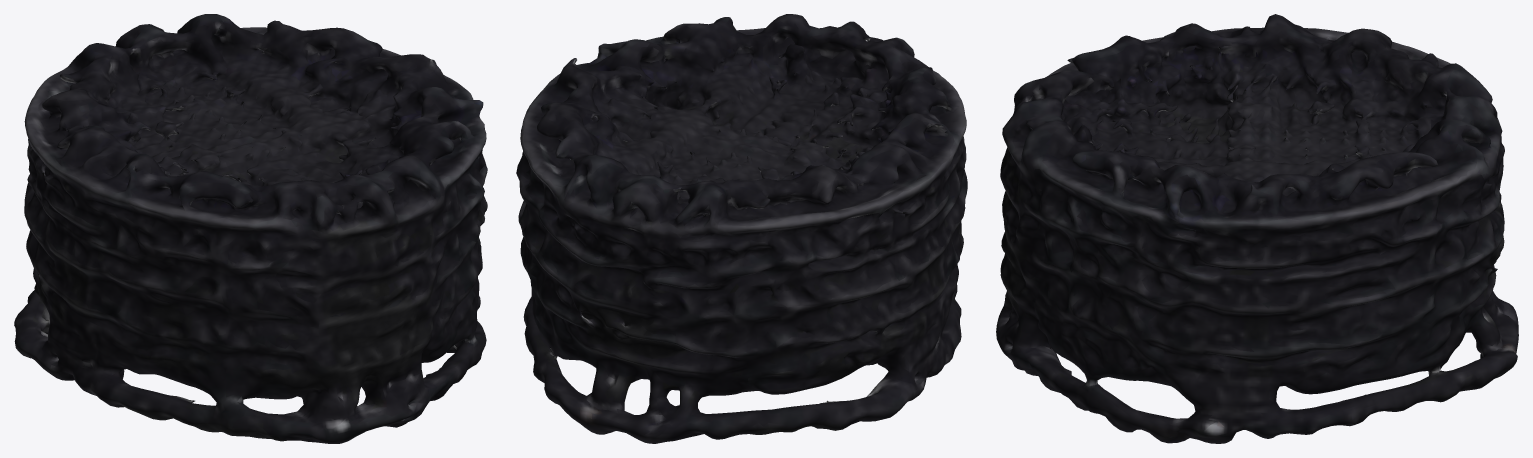
Rendered from 898252002b9e_a_bulk_black_chain_.fbx.
3 views of the same model, side by side, from view 1: azimuth 30°, elevation 25°; view 2: azimuth 150°, elevation 25°; view 3: azimuth 270°, elevation 25° (orthographic). The views are drawn at different scales.
Visible parts, largest first — view 1: high_poly; view 2: high_poly; view 3: high_poly.
Part boxes in pixels (<box>): high_poly: <box>14,14,487,443</box>; high_poly: <box>516,14,967,443</box>; high_poly: <box>996,14,1518,443</box>.
Bounding box in the file's own units: 89.91 × 56.36 × 100.
